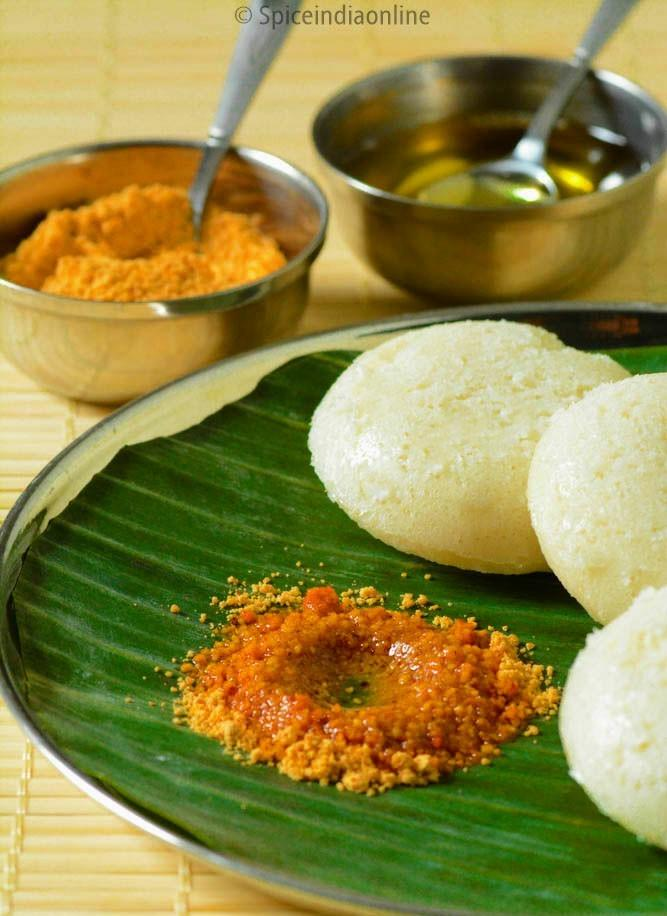Idli: (308, 316, 629, 577), (530, 366, 667, 624), (560, 581, 667, 852)
